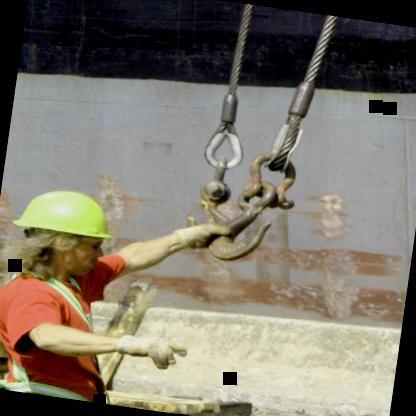helmet: (0, 173, 126, 291)
